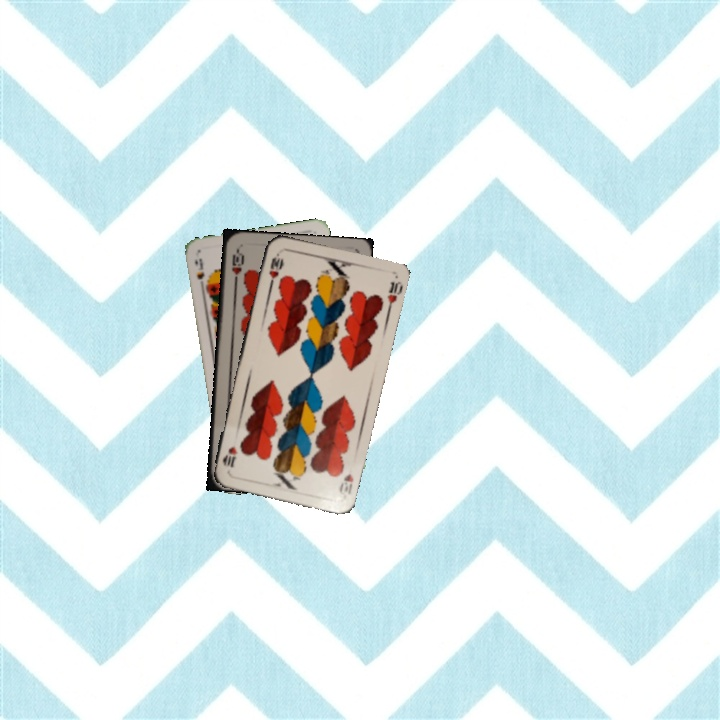H10: (265, 249, 285, 289), (227, 245, 246, 286), (335, 469, 356, 500)
S9: (191, 254, 207, 293)
